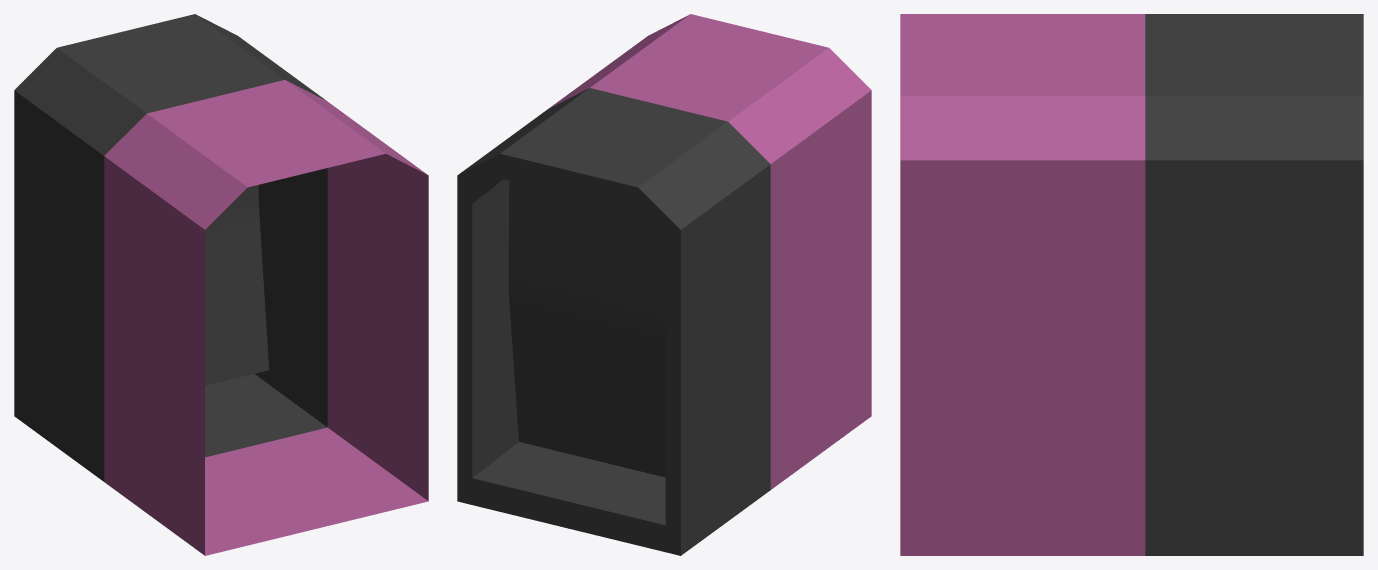
The model's file is ThuhrusterShip.fbx.
3 views of the same model, side by side, from view 1: azimuth 30°, elevation 25°; view 2: azimuth 150°, elevation 25°; view 3: azimuth 270°, elevation 25° (orthographic). The views are drawn at different scales.
Visible parts, largest first — view 1: Spaceship_FernandoTheFlamingo.009; view 2: Spaceship_FernandoTheFlamingo.009; view 3: Spaceship_FernandoTheFlamingo.009.
Part boxes in pixels (bbox=[...]): Spaceship_FernandoTheFlamingo.009: bbox=[14, 14, 428, 555]; Spaceship_FernandoTheFlamingo.009: bbox=[457, 14, 871, 555]; Spaceship_FernandoTheFlamingo.009: bbox=[900, 14, 1363, 555].
Bounding box in the file's own units: 109 × 167 × 161.
1 material, 1 textured.
